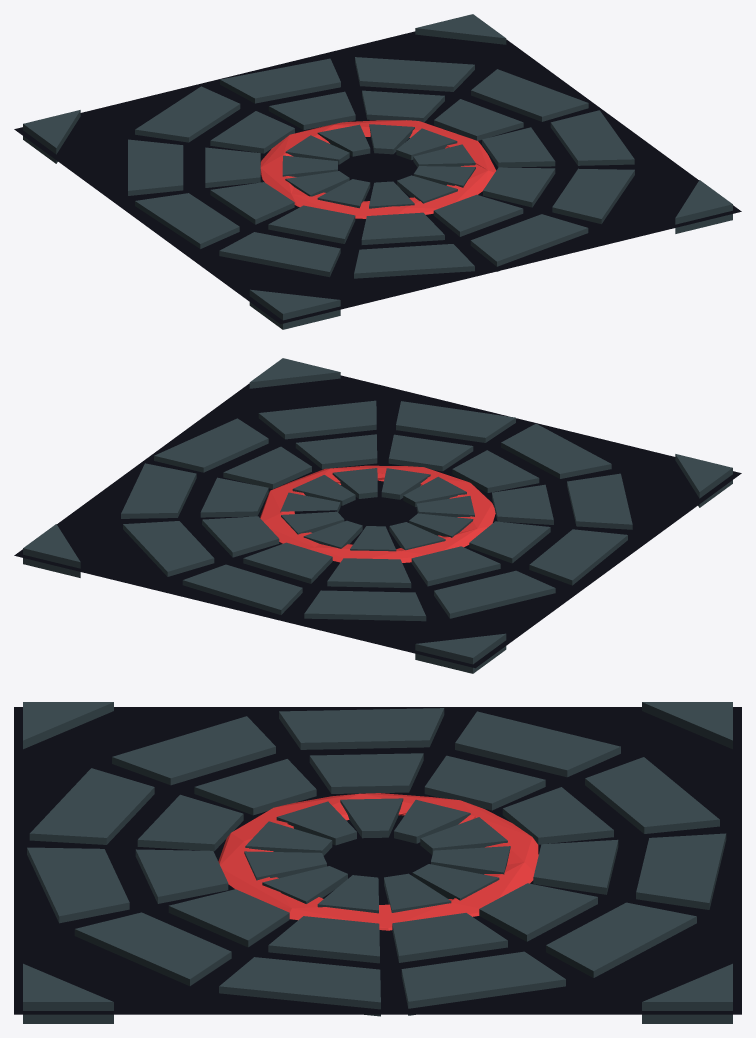
The model's file is PlatformCircle.fbx.
The picture shows the model from 3 angles, top to bottom: view 1: azimuth 30°, elevation 25°; view 2: azimuth 150°, elevation 25°; view 3: azimuth 270°, elevation 25°; orthographic projection. The views are drawn at different scales.
Visible parts, largest first — view 1: PlatformCircle; view 2: PlatformCircle; view 3: PlatformCircle.
Boxes of the visible parts, left/top/right/bottom form: PlatformCircle: left=14, top=14, right=741, bottom=329; PlatformCircle: left=14, top=358, right=741, bottom=673; PlatformCircle: left=14, top=702, right=741, bottom=1023.
Size of the model in its own units: 1600 by 67.18 by 1600.
